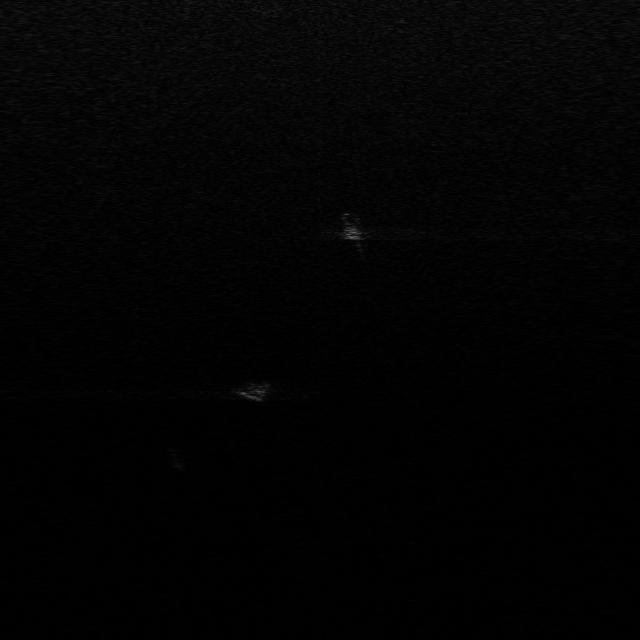cube: (230, 378, 272, 406)
square cage: (334, 211, 368, 244)
